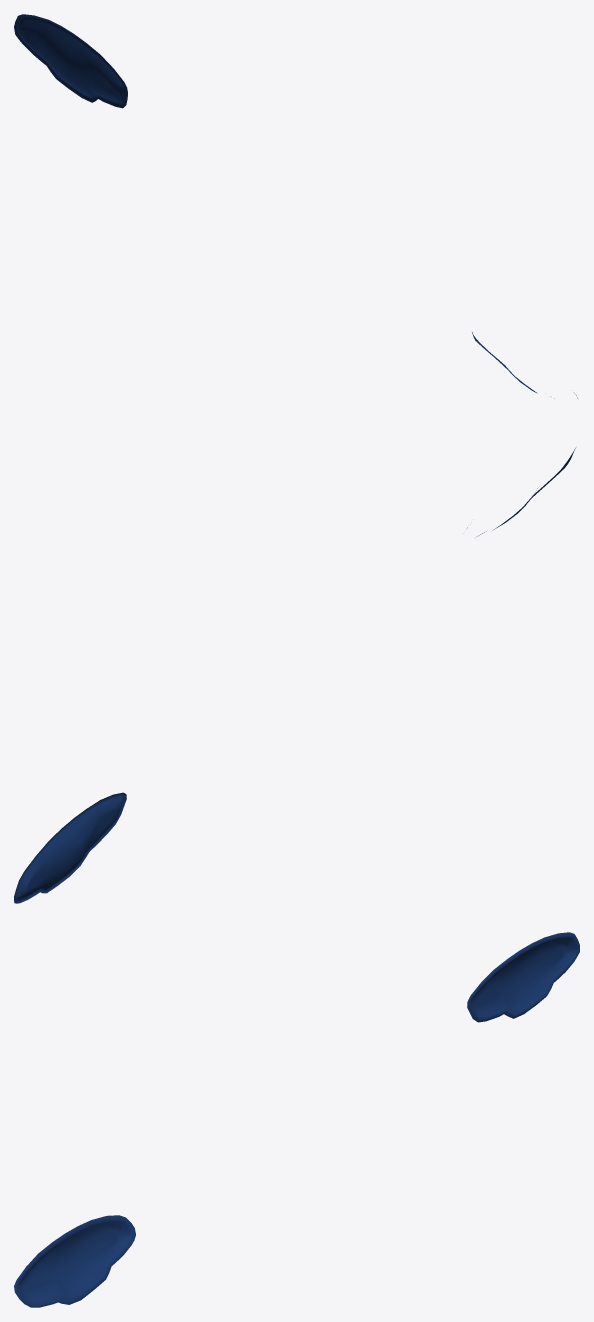
Rendered from R_cavity.glb.
3 views of the same model, one above another, from view 1: azimuth 30°, elevation 25°; view 2: azimuth 150°, elevation 25°; view 3: azimuth 330°, elevation 25° (orthographic). The views are drawn at different scales.
Visible parts, largest first — view 1: R_cavity; view 2: R_cavity; view 3: R_cavity.
Part boxes in pixels (bbox=[...]): R_cavity: bbox=[14, 14, 577, 398]; R_cavity: bbox=[14, 448, 575, 903]; R_cavity: bbox=[14, 932, 579, 1307].
Size of the model in its own units: 0.0371 by 0.1354 by 1.41.
